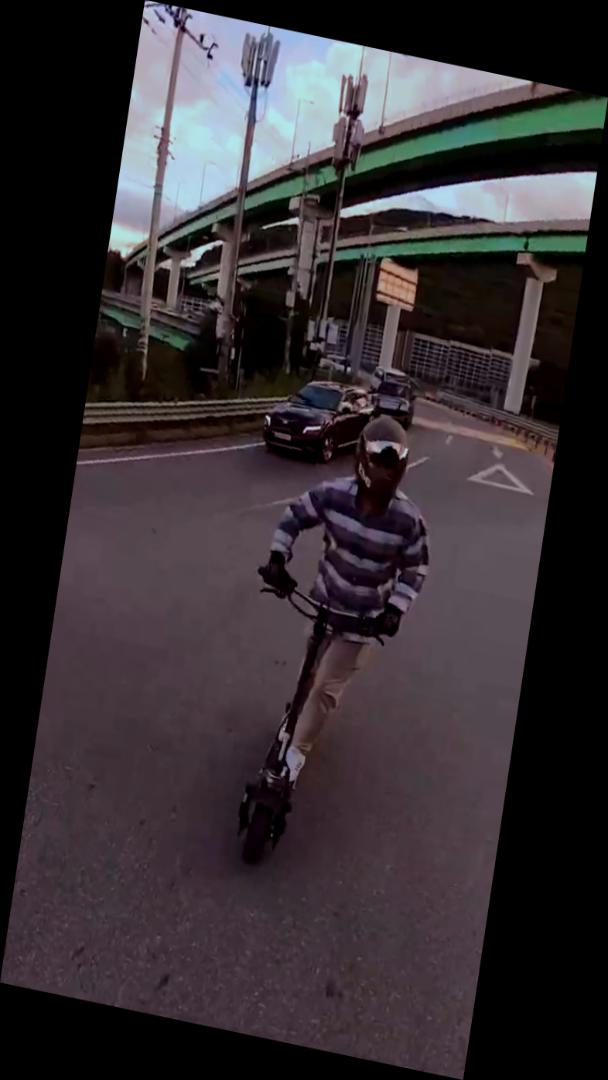helmet: (216, 390, 454, 892)
